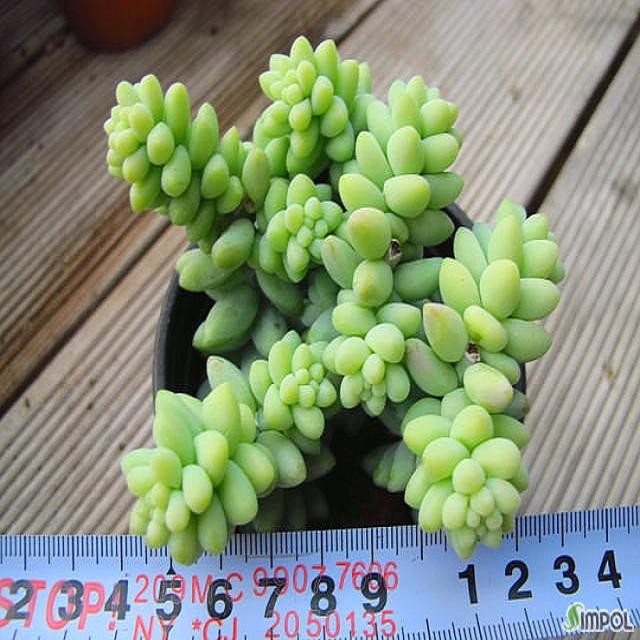Sedum: (105, 75, 270, 291), (422, 202, 560, 413), (121, 383, 275, 564), (402, 363, 529, 558), (330, 63, 464, 246), (254, 37, 374, 221), (306, 290, 422, 417), (248, 330, 338, 455), (396, 258, 439, 298), (355, 260, 392, 292)
